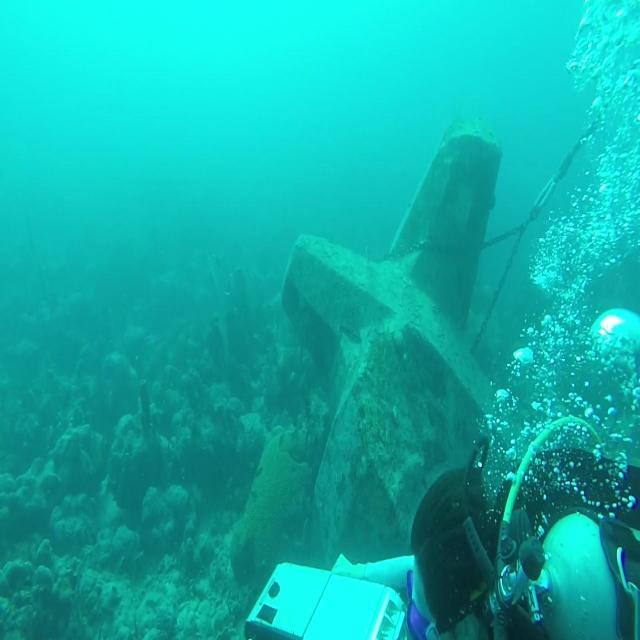human: (386, 412, 640, 638)
